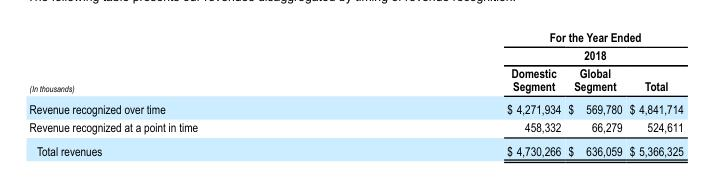table: (28, 29, 682, 157)
table column: (28, 29, 351, 157), (351, 29, 563, 157), (563, 29, 625, 157), (625, 29, 682, 157)
table column header: (28, 29, 682, 96)
table row: (28, 29, 682, 63), (28, 63, 682, 96), (28, 96, 682, 117), (28, 117, 682, 138), (28, 138, 682, 157)
table spanning cell: (28, 29, 351, 96), (351, 29, 682, 63)
